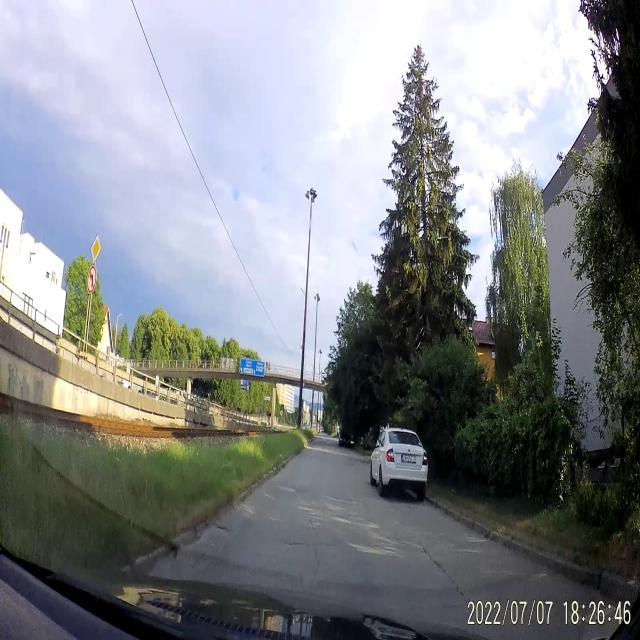Pothole: (192, 509, 238, 554), (285, 538, 308, 548)
